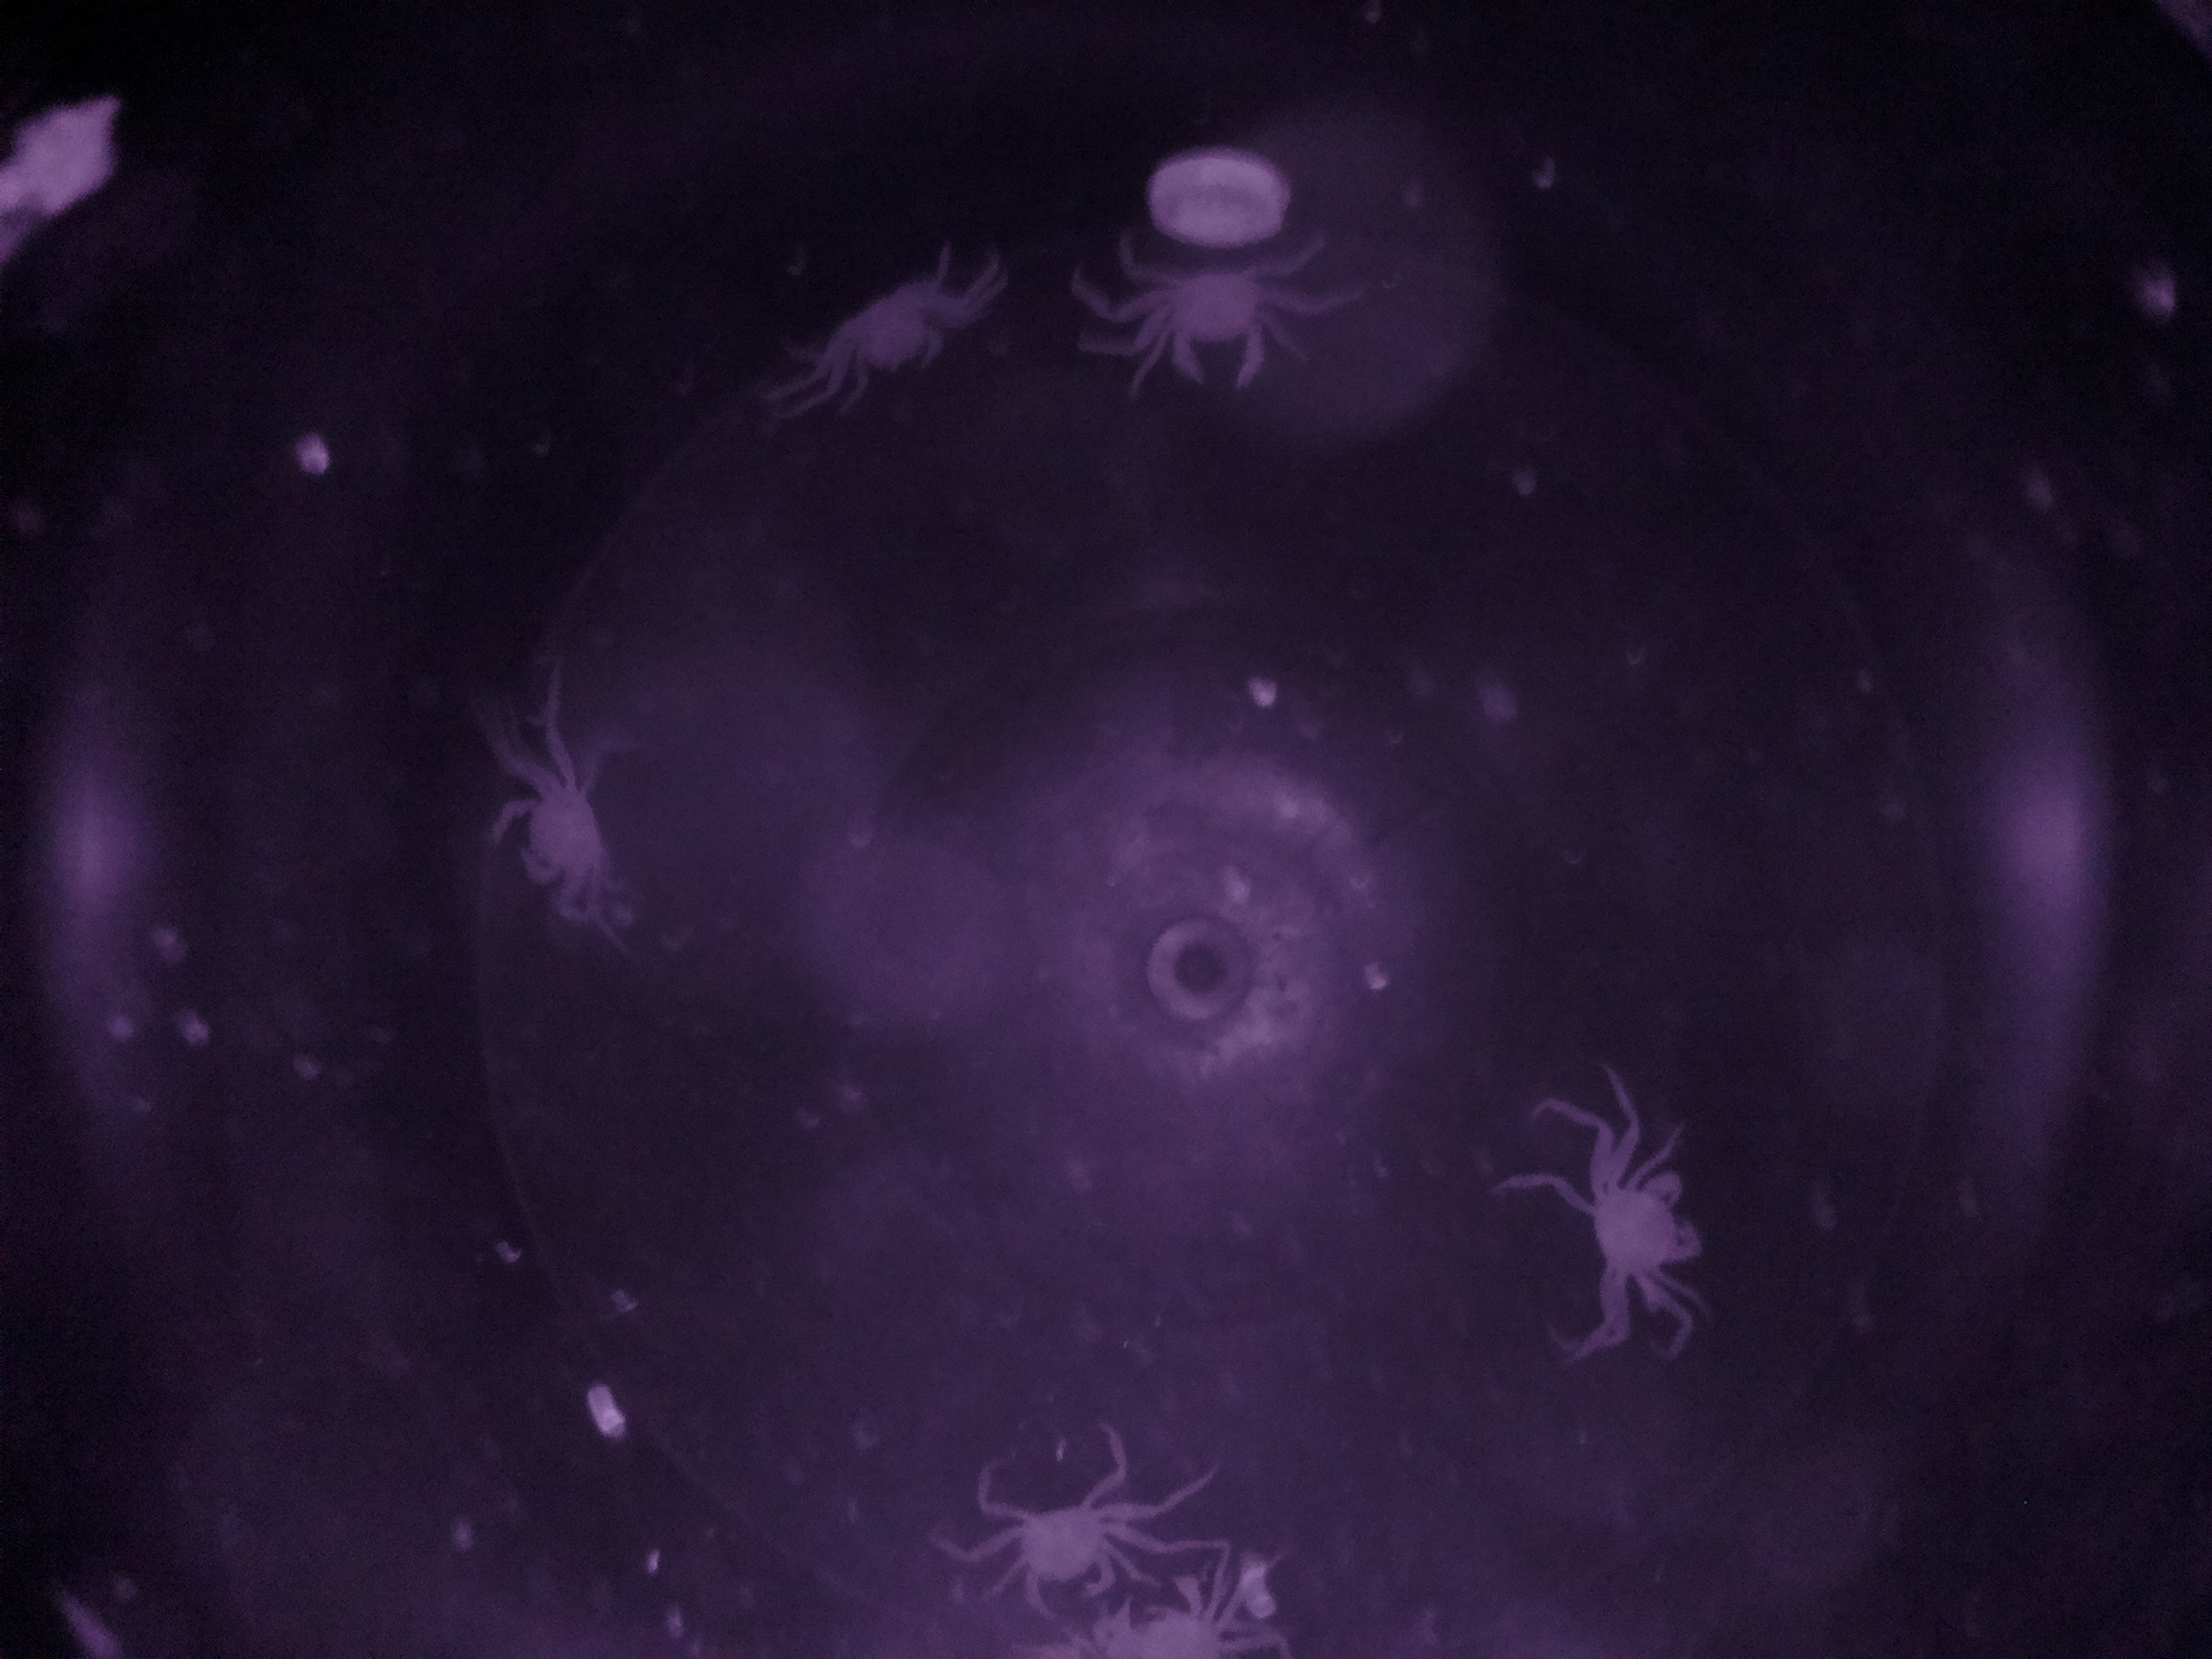Crab: (1569, 1107, 1719, 1321), (1134, 235, 1305, 415), (979, 1471, 1163, 1631), (477, 744, 631, 931)
